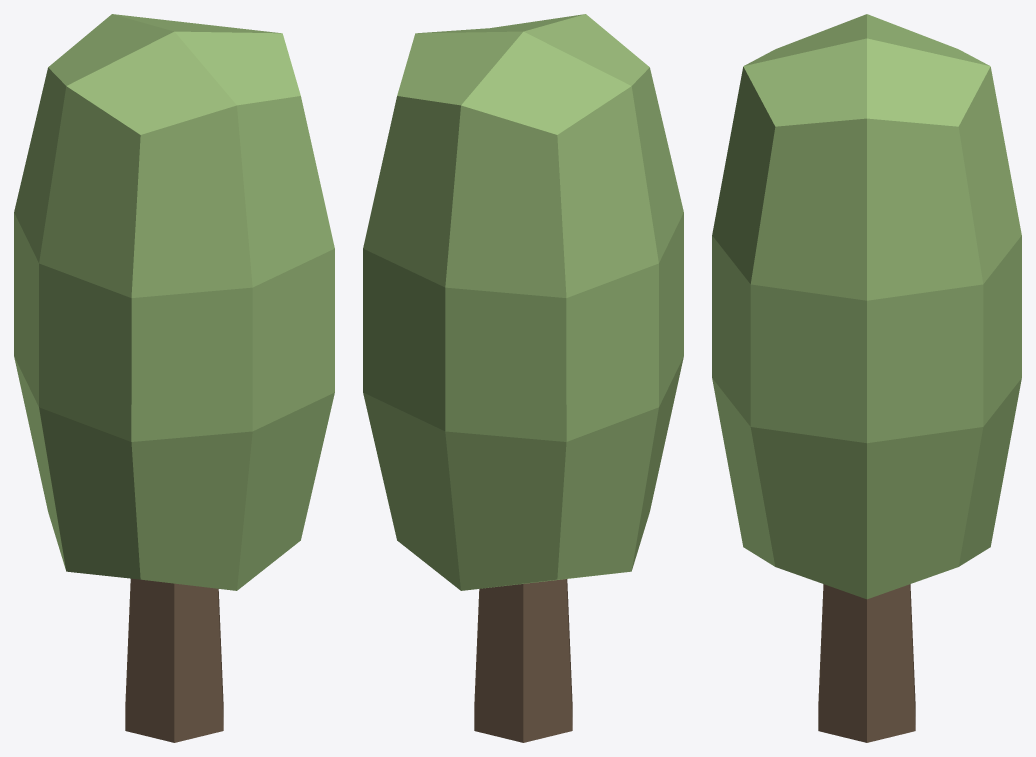
Rendered from Bush_03.fbx.
3 views of the same model, side by side, from view 1: azimuth 30°, elevation 25°; view 2: azimuth 150°, elevation 25°; view 3: azimuth 270°, elevation 25° (orthographic).
Parts seen in each view (by area): view 1: pCylinder366; view 2: pCylinder366; view 3: pCylinder366.
Boxes of the visible parts, box(x1,y1,x2,y2) form: pCylinder366: box(14, 14, 334, 742); pCylinder366: box(363, 14, 683, 742); pCylinder366: box(712, 14, 1021, 742).
Size of the model in its own units: 0.7724 by 1.87 by 0.7724.
